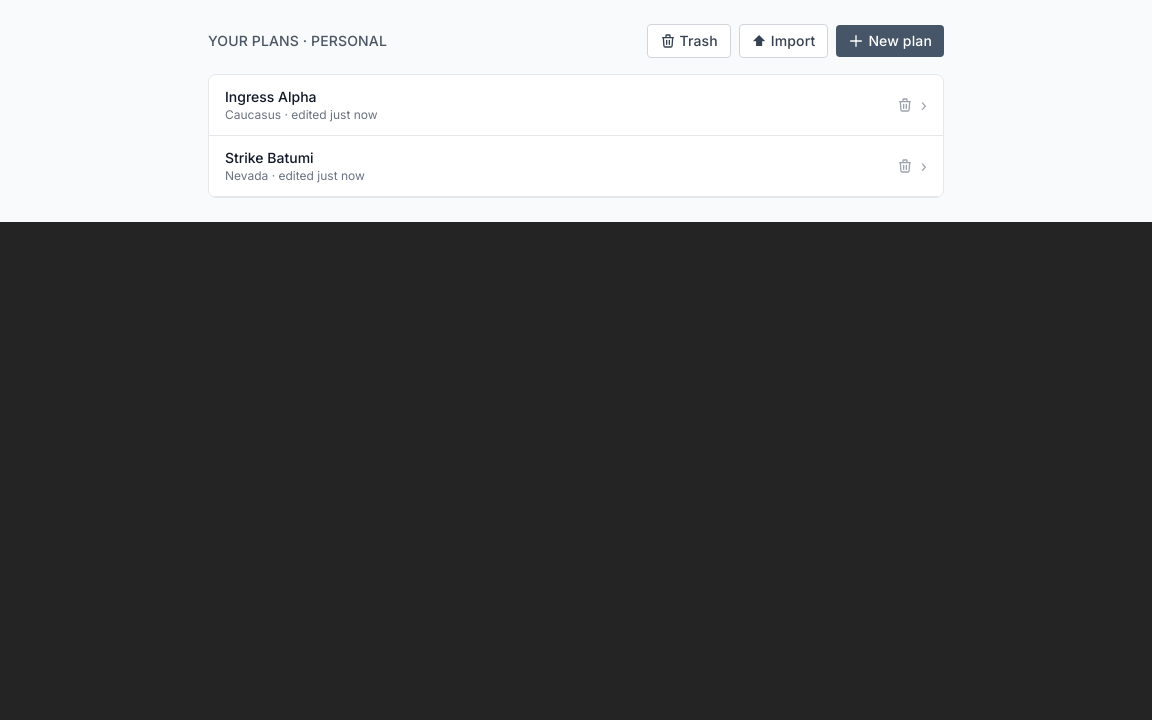
PlansHomePage — deleting plans (add-trash-and-soft-delete 7.1) › Delete asks for confirmation naming the plan and the 30-day window
Step 1. Click the button named "Delete Ingress Alpha" → (905, 105), box [893,93,917,117]
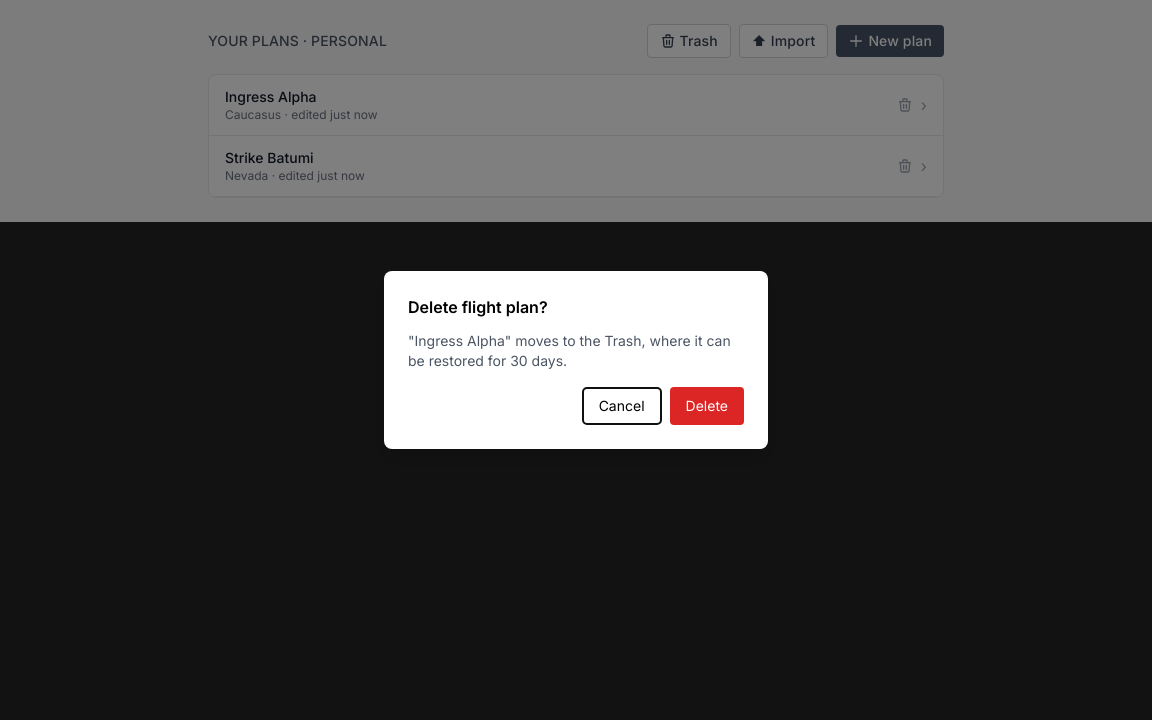
Expected: the dialog shows "\"Ingress Alpha\" moves to the Trash, where it can be restored for 30 days.", [384,271,768,449]
Step 2. Click the button "Delete" → (707, 406), box [670,387,744,425]
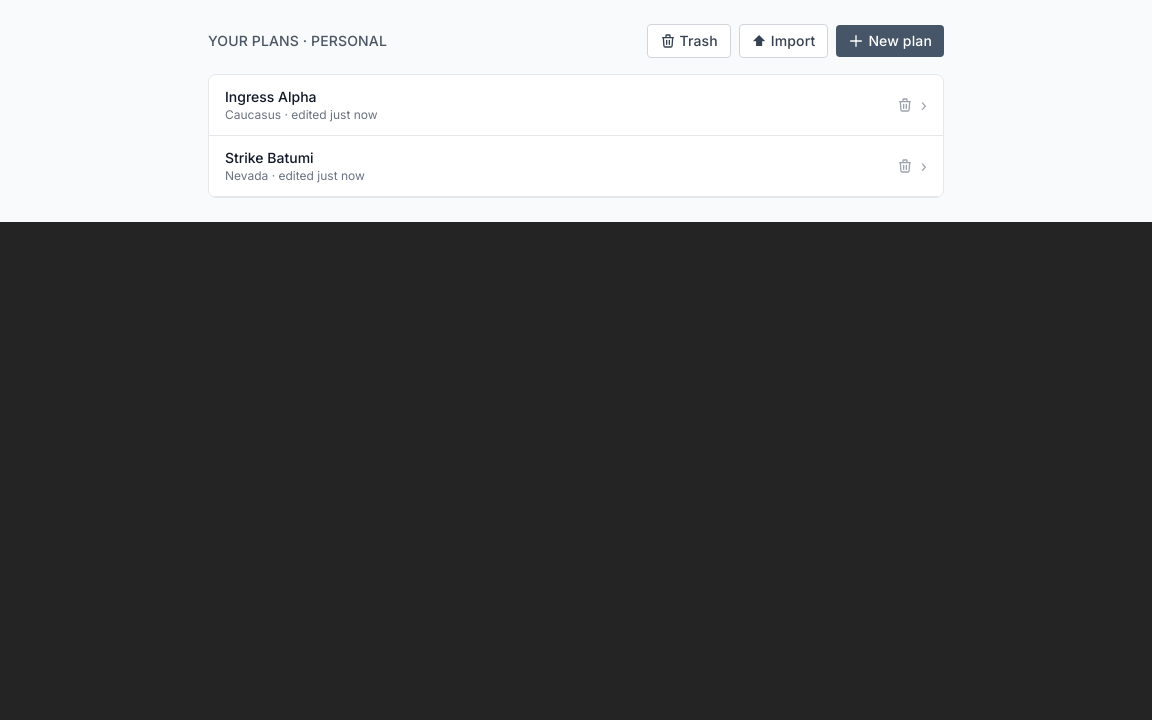
Expected: the dialog is gone
